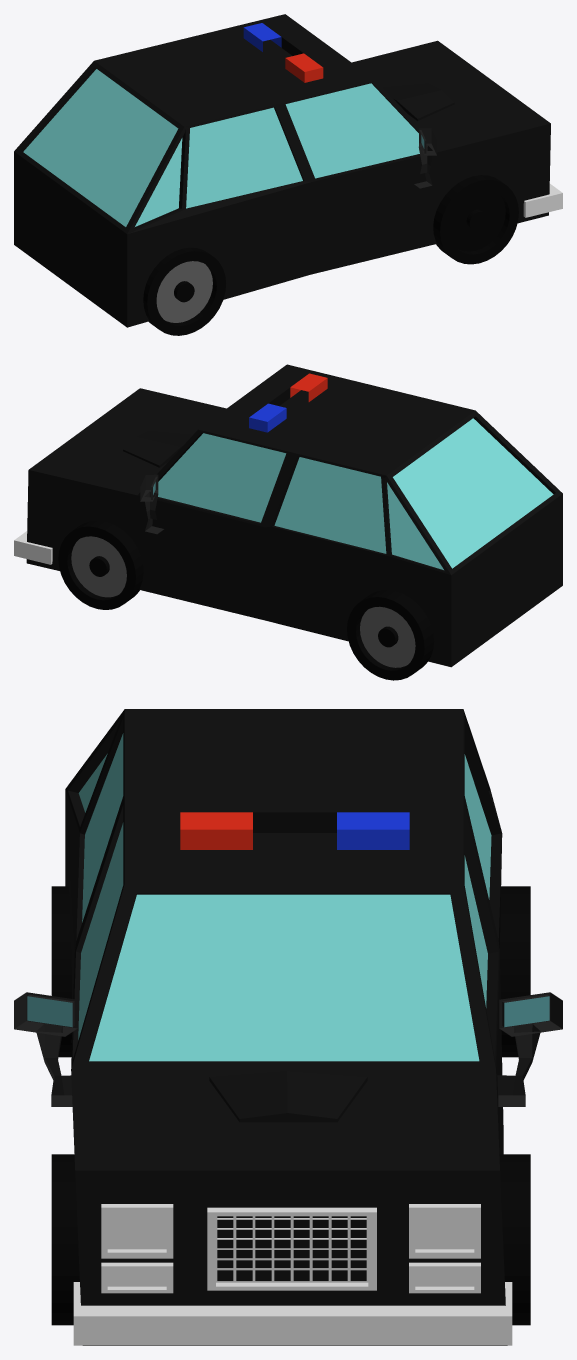
The model's file is Car_Mesh.fbx.
3 renders of one model, top to bottom at view 1: azimuth 30°, elevation 25°; view 2: azimuth 150°, elevation 25°; view 3: azimuth 270°, elevation 25°, orthographic. The views are drawn at different scales.
Visible parts, largest first — view 1: Cube, Cylinder, Cylinder.001, Cube.004, Cube.003, Cube.005; view 2: Cube, Cylinder.001, Cylinder, Cube.004, Cube.005, Cube.003; view 3: Cube, Cube.003, Cube.001, Cylinder, Cube.002, Cube.005, Cube.004, Cylinder.001.
Boxes of the visible parts, x1=… form: Cube: x1=14, y1=14, x2=550, y2=327; Cylinder: x1=433, y1=175, x2=518, y2=264; Cylinder.001: x1=143, y1=247, x2=226, y2=335; Cube.004: x1=243, y1=23, x2=323, y2=82; Cube.003: x1=523, y1=183, x2=562, y2=217; Cube.005: x1=414, y1=128, x2=436, y2=188; Cube: x1=26, y1=364, x2=562, y2=667; Cylinder.001: x1=347, y1=590, x2=434, y2=680; Cylinder: x1=58, y1=520, x2=143, y2=609; Cube.004: x1=249, y1=373, x2=327, y2=432; Cube.005: x1=140, y1=474, x2=163, y2=534; Cube.003: x1=14, y1=531, x2=52, y2=564; Cube: x1=65, y1=709, x2=507, y2=1345; Cube.003: x1=73, y1=1282, x2=512, y2=1345; Cube.001: x1=101, y1=1204, x2=480, y2=1293; Cylinder: x1=51, y1=1154, x2=530, y2=1325; Cube.002: x1=207, y1=1207, x2=376, y2=1290; Cube.005: x1=14, y1=992, x2=562, y2=1106; Cube.004: x1=180, y1=812, x2=409, y2=849; Cylinder.001: x1=51, y1=886, x2=530, y2=1057.
Bounding box in the file's own units: 648 × 284 × 375.
